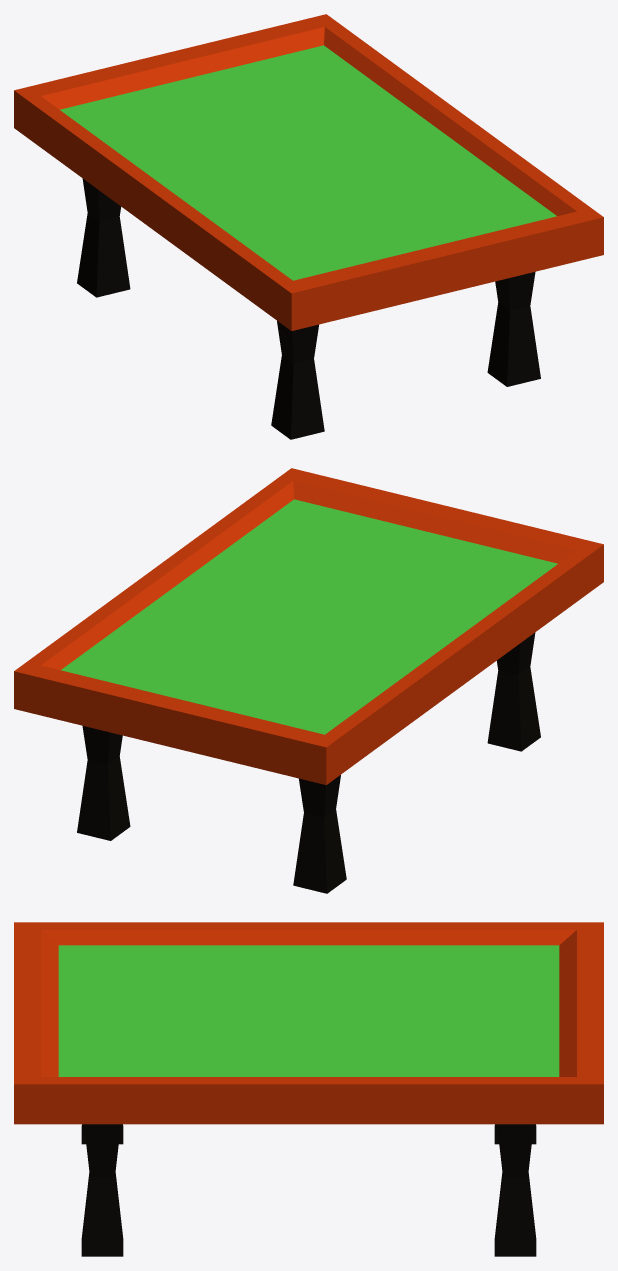
File: bill-table.obj
The picture shows the model from 3 angles, top to bottom: view 1: azimuth 30°, elevation 25°; view 2: azimuth 150°, elevation 25°; view 3: azimuth 270°, elevation 25°; orthographic projection. The views are drawn at different scales.
Visible parts, largest first — view 1: Cube, Cube.001; view 2: Cube, Cube.001; view 3: Cube, Cube.001.
Boxes of the visible parts, x1,y1,x2,y2 form: Cube: [14, 14, 603, 330]; Cube.001: [77, 178, 540, 439]; Cube: [14, 468, 603, 784]; Cube.001: [77, 632, 540, 893]; Cube: [14, 922, 603, 1124]; Cube.001: [81, 1124, 536, 1256].
Size of the model in its own units: 2.6 by 1.41 by 4.
